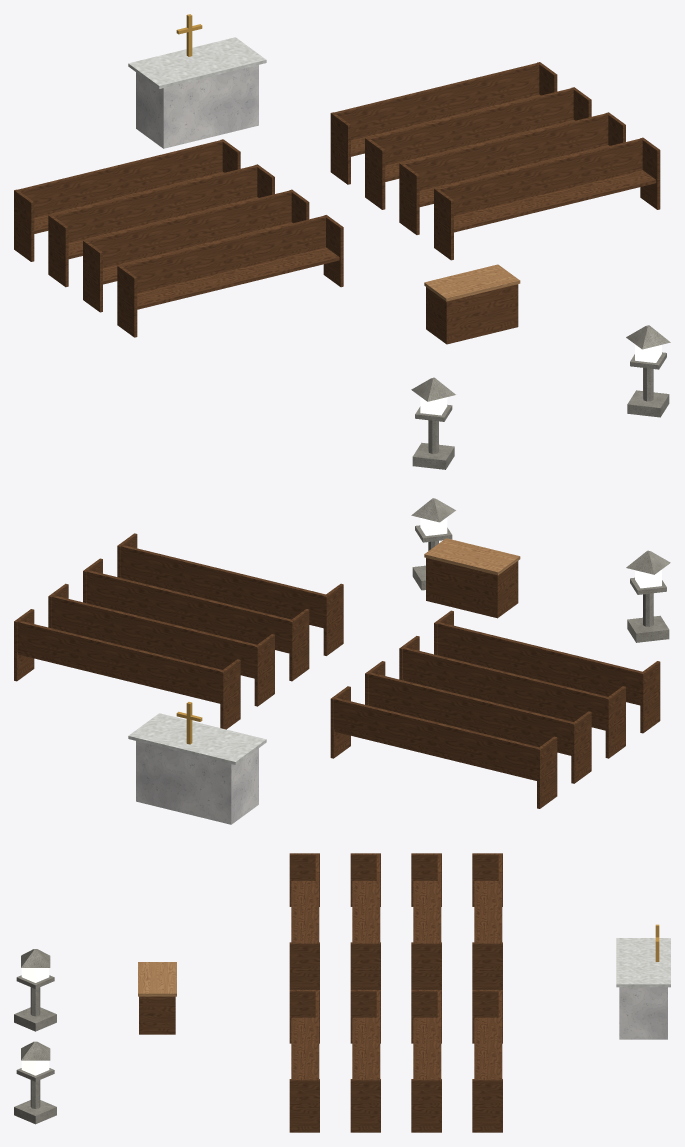
File: i_shinto_shrine.gltf
3 renders of one model, top to bottom at view 1: azimuth 30°, elevation 25°; view 2: azimuth 150°, elevation 25°; view 3: azimuth 270°, elevation 25°, orthographic. The views are drawn at different scales.
Visible parts, largest first — view 1: I_shinto_shrine; view 2: I_shinto_shrine; view 3: I_shinto_shrine.
Boxes of the visible parts, left/top/right/bottom form: I_shinto_shrine: left=14, top=14, right=670, bottom=469; I_shinto_shrine: left=14, top=498, right=670, bottom=824; I_shinto_shrine: left=14, top=853, right=670, bottom=1132.
Size of the model in its own units: 8.82 by 2.6 by 10.78.
7 materials, 5 textured.
